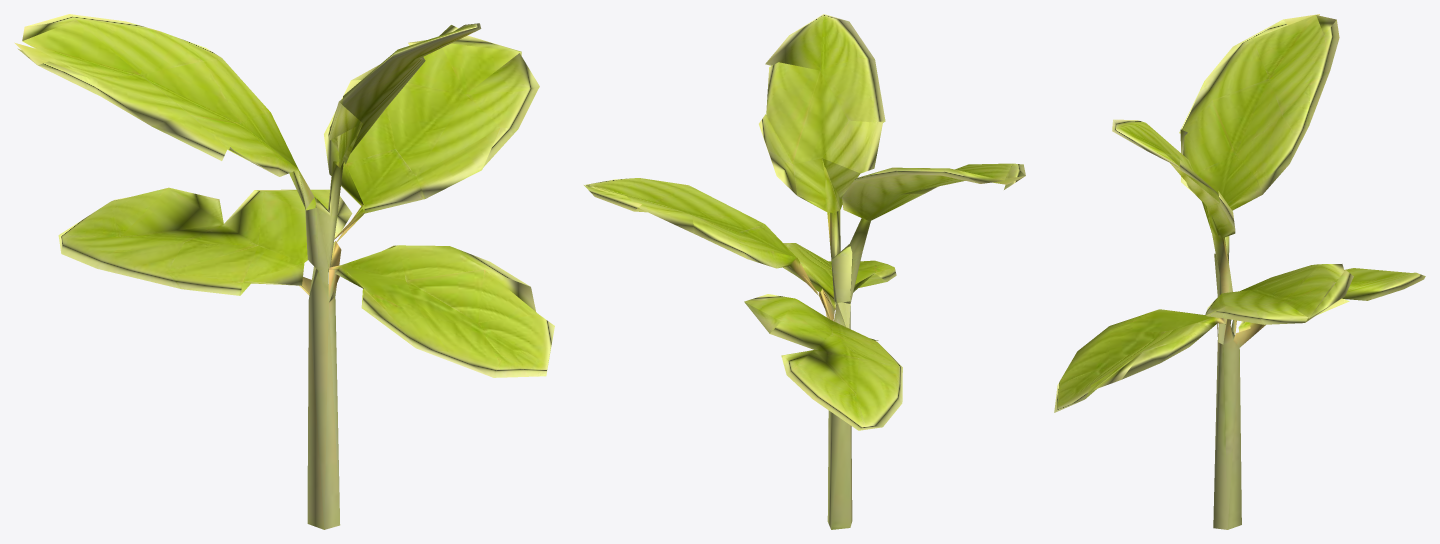
The model's file is crop-seedling.glb.
3 renders of one model, left to right at view 1: azimuth 30°, elevation 25°; view 2: azimuth 150°, elevation 25°; view 3: azimuth 270°, elevation 25°, orthographic. The views are drawn at different scales.
Visible parts, largest first — view 1: plant; view 2: plant; view 3: plant.
Part boxes in pixels (x1=…): plant: x1=14, y1=14, x2=554, y2=529; plant: x1=584, y1=14, x2=1025, y2=529; plant: x1=1054, y1=14, x2=1425, y2=529.
Size of the model in its own units: 0.12 by 0.12 by 0.0939.
Materials: 1 (1 with a texture image).
